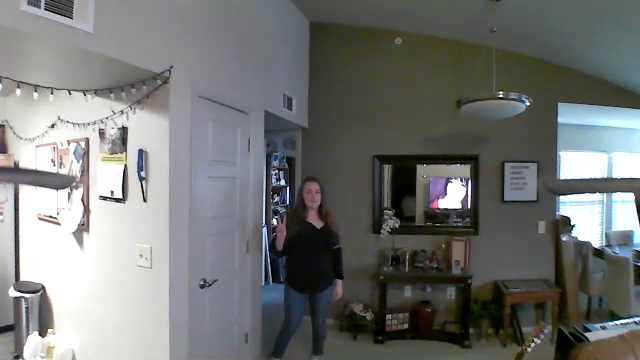peace: (270, 213, 295, 243)
